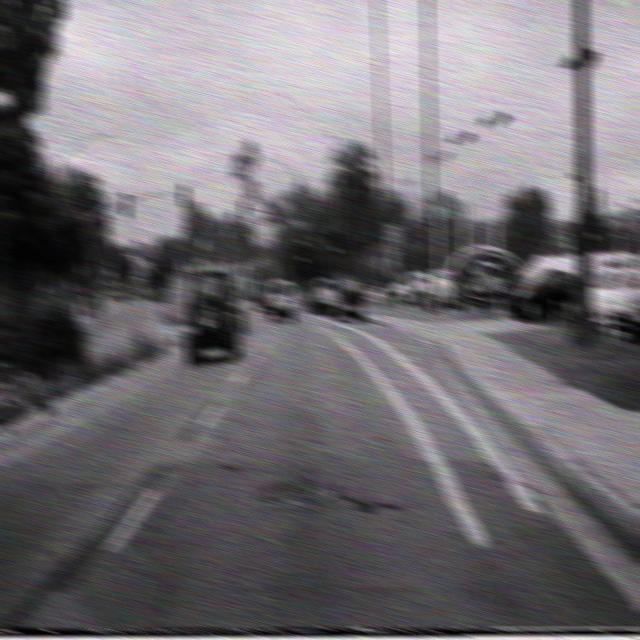speedLimit35: (383, 222, 403, 254)
